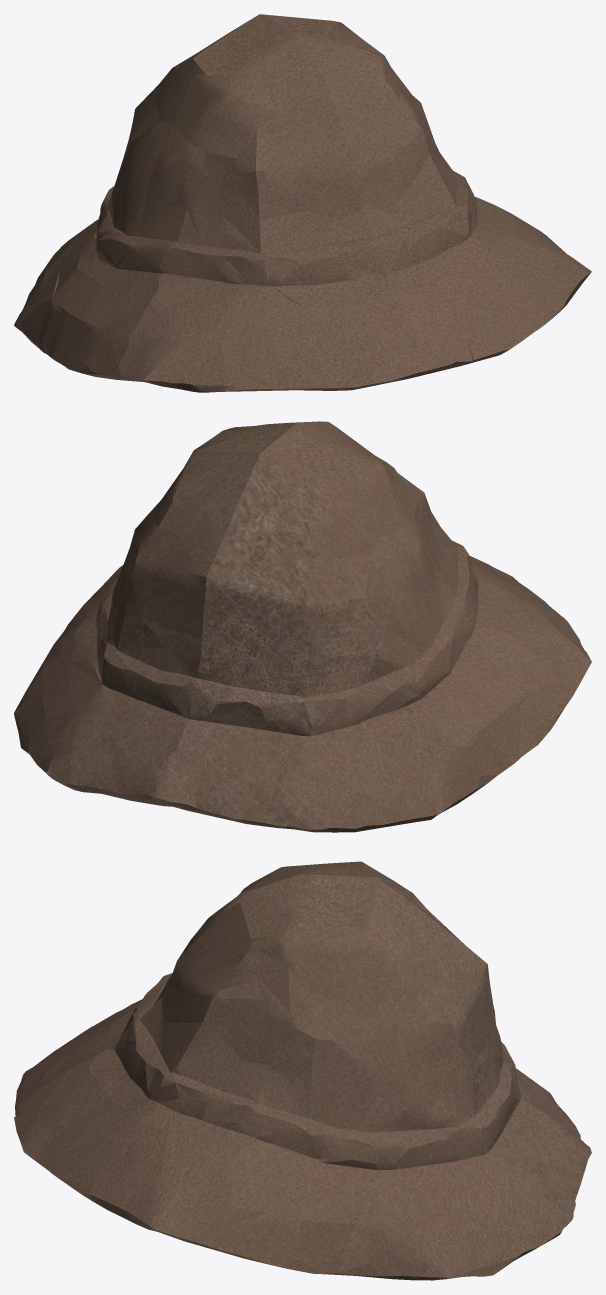
The model's file is fisher.glb.
3 renders of one model, top to bottom at view 1: azimuth 30°, elevation 25°; view 2: azimuth 150°, elevation 25°; view 3: azimuth 270°, elevation 25°, orthographic. The views are drawn at different scales.
Parts seen in each view (by area): view 1: Module_occupation_fisher_0; view 2: Module_occupation_fisher_0; view 3: Module_occupation_fisher_0.
Part boxes in pixels (x1,y1,x2,y2): Module_occupation_fisher_0: [14, 14, 591, 392]; Module_occupation_fisher_0: [14, 421, 591, 832]; Module_occupation_fisher_0: [14, 861, 591, 1280].
Size of the model in its own units: 0.2683 by 0.1645 by 0.2783.
1 material, 1 textured.
